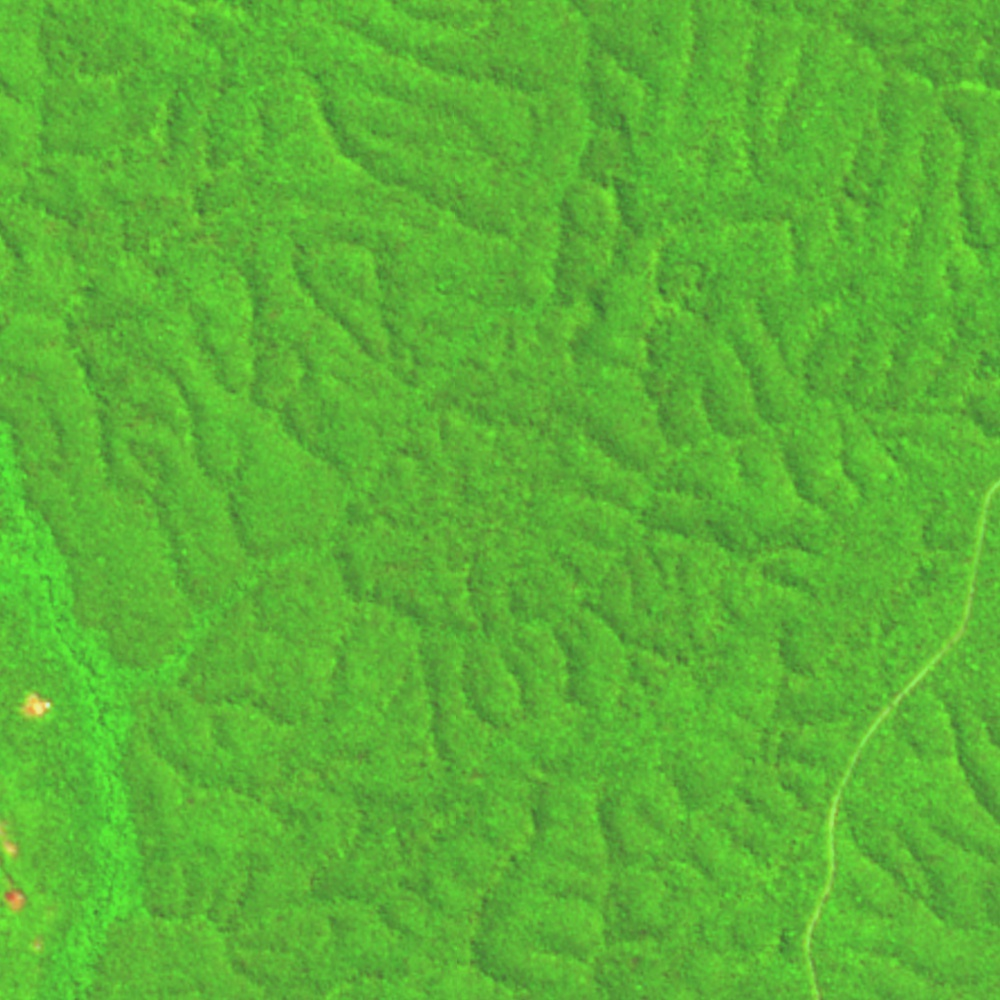legal: (1, 811, 34, 916), (23, 686, 57, 723), (27, 933, 42, 949)
